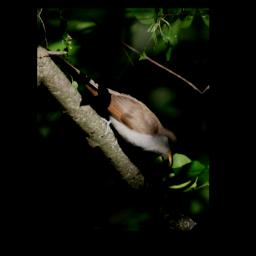Cuckoo: (46, 44, 180, 173)
